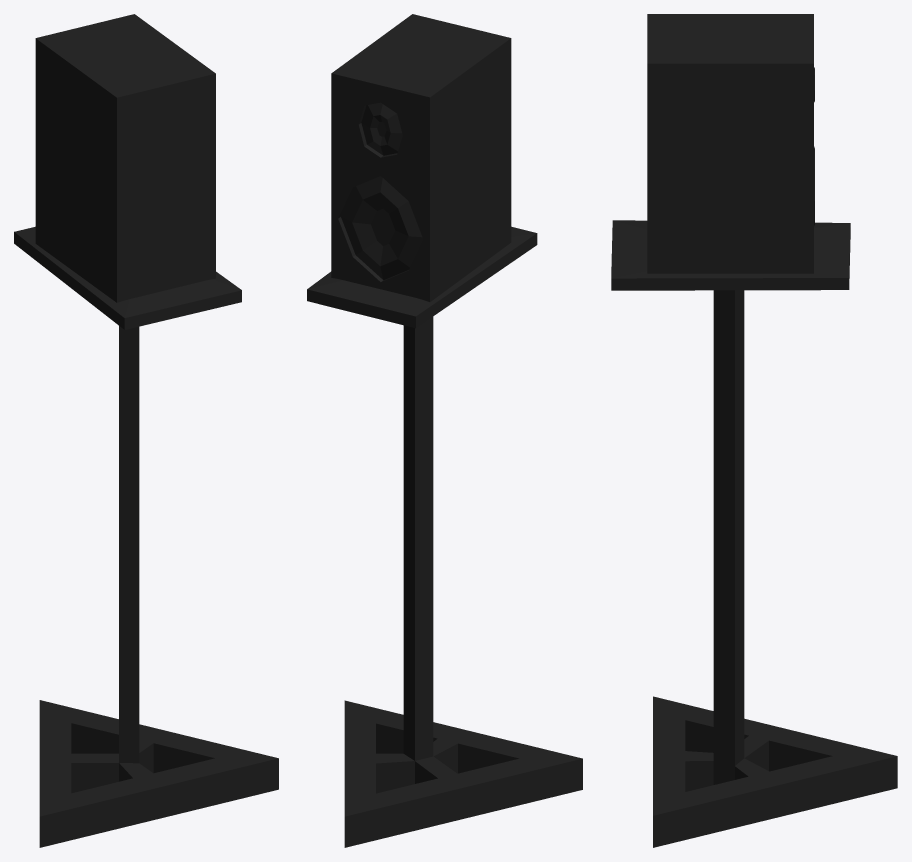
Rendered from studiomonitor.gltf.
The picture shows the model from 3 angles, left to right: view 1: azimuth 30°, elevation 25°; view 2: azimuth 150°, elevation 25°; view 3: azimuth 270°, elevation 25°; orthographic projection. The views are drawn at different scales.
Parts seen in each view (by area): view 1: Cube; view 2: Cube; view 3: Cube.
Part boxes in pixels (x1,y1,x2,y2): Cube: (14, 14, 278, 847); Cube: (307, 14, 582, 847); Cube: (611, 14, 897, 847).
Bounding box in the file's own units: 0.3883 × 1.14 × 0.3935.
1 material, 1 textured.
